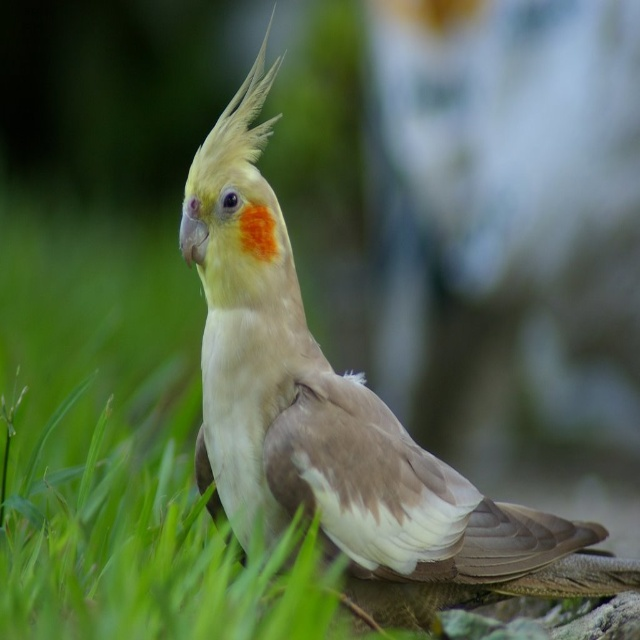Parrot: (179, 1, 640, 640)
